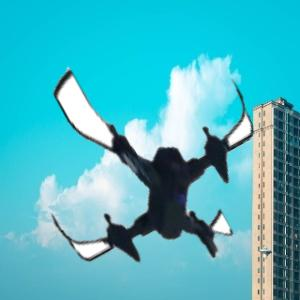drone: (27, 41, 271, 285)
